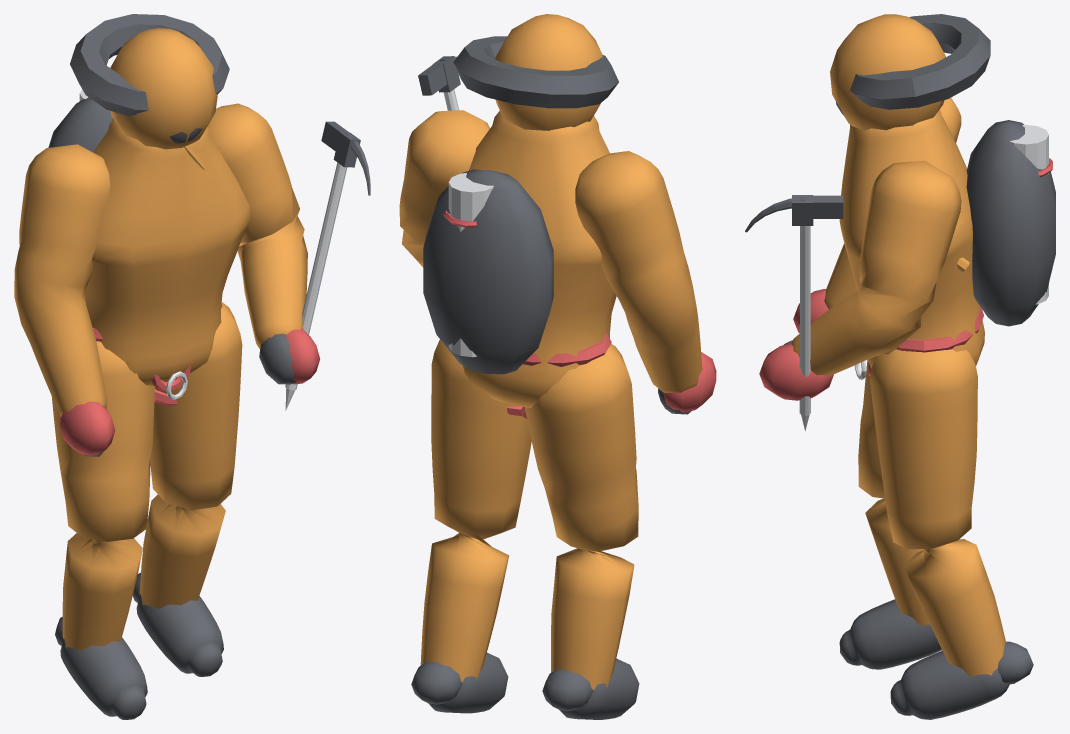
The model's file is mountaineering-and-summit-expedition-climber-in-down-s-e39e08e1__18788.glb.
3 renders of one model, left to right at view 1: azimuth 30°, elevation 25°; view 2: azimuth 150°, elevation 25°; view 3: azimuth 270°, elevation 25°, orthographic. The views are drawn at different scales.
Parts seen in each view (by area): view 1: climber-in-down-suit-with-oxygen; view 2: climber-in-down-suit-with-oxygen; view 3: climber-in-down-suit-with-oxygen.
Part boxes in pixels (bbox=[...]): climber-in-down-suit-with-oxygen: bbox=[14, 14, 370, 719]; climber-in-down-suit-with-oxygen: bbox=[399, 14, 716, 719]; climber-in-down-suit-with-oxygen: bbox=[745, 14, 1055, 719].
Size of the model in its own units: 0.8008 by 1.75 by 0.7333.
